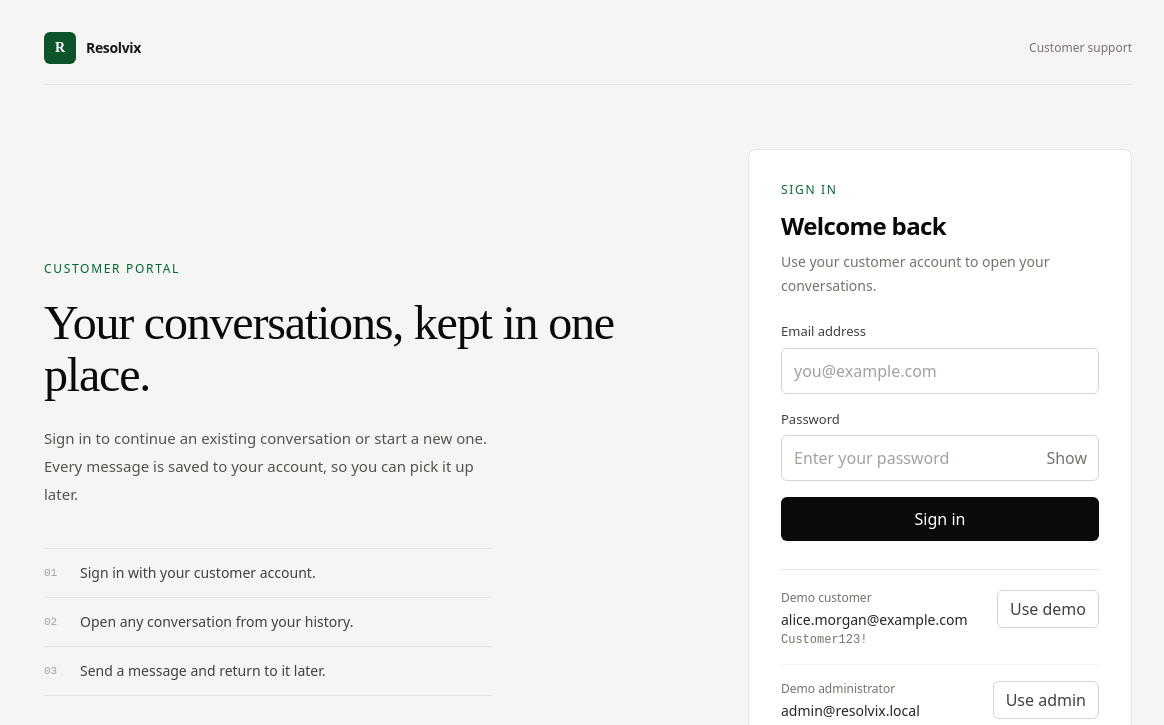
Login › sends an administrator to the dashboard after a root redirect
What coordinates should you click on to do the following:
click the button "Use admin"
I would click on:
 (1046, 700)
Its box is 993,681 -> 1099,719.
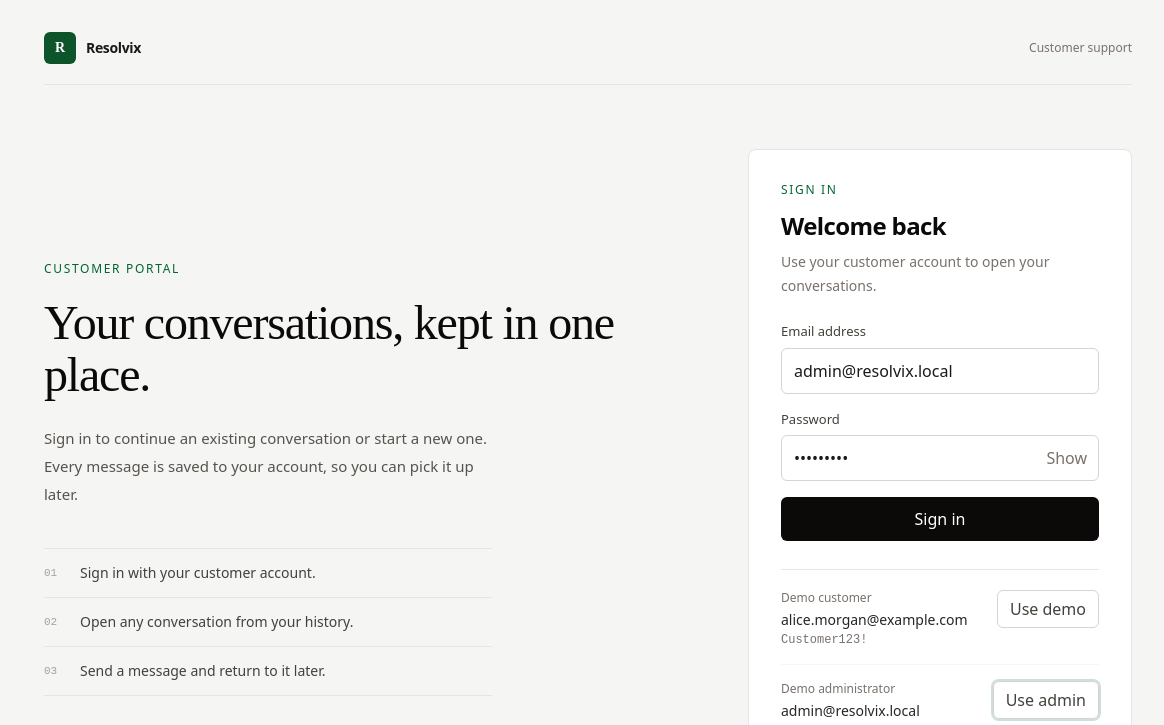
What coordinates should you click on to do the following:
click the button "Sign in"
I would click on:
 (940, 519)
Its box is 781,497 -> 1099,541.
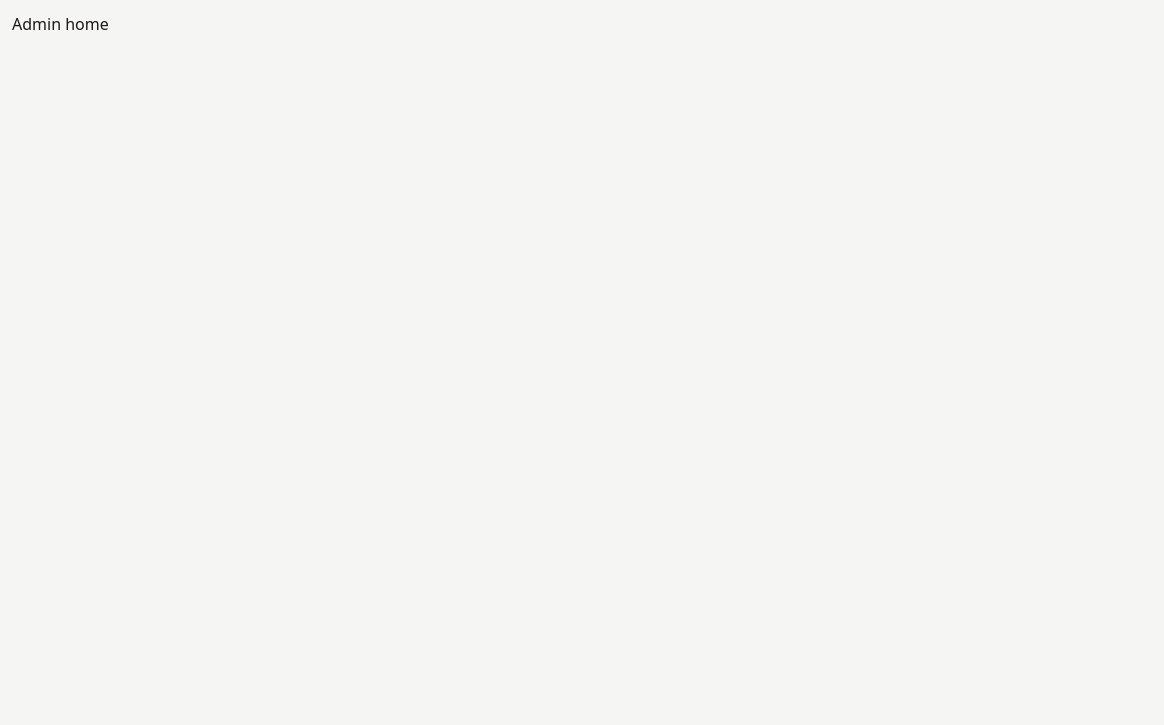
Expected: the text "Admin home" is shown, 12,13 -> 109,35
